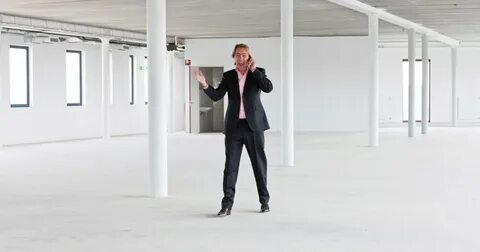awake: (209, 42, 274, 218)
